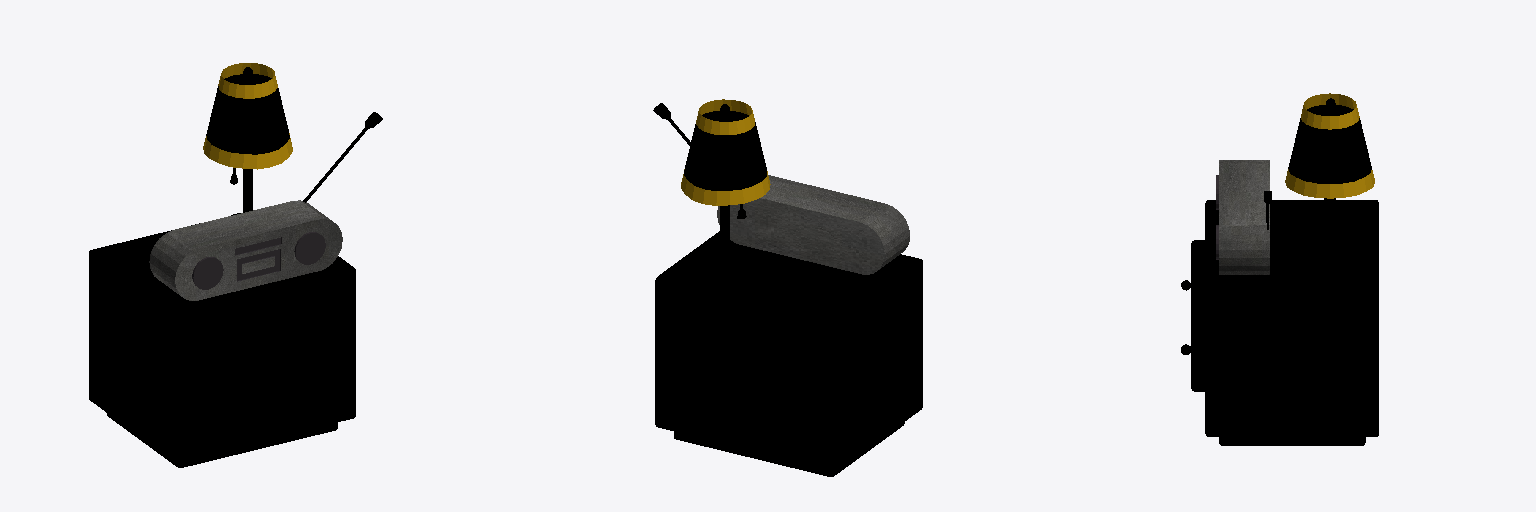
3 renders of one model, left to right at view 1: azimuth 30°, elevation 25°; view 2: azimuth 150°, elevation 25°; view 3: azimuth 270°, elevation 25°, orthographic.
Bounding box in the file's own units: 2.68 × 3.56 × 1.93.
Materials: 6 (3 with a texture image).